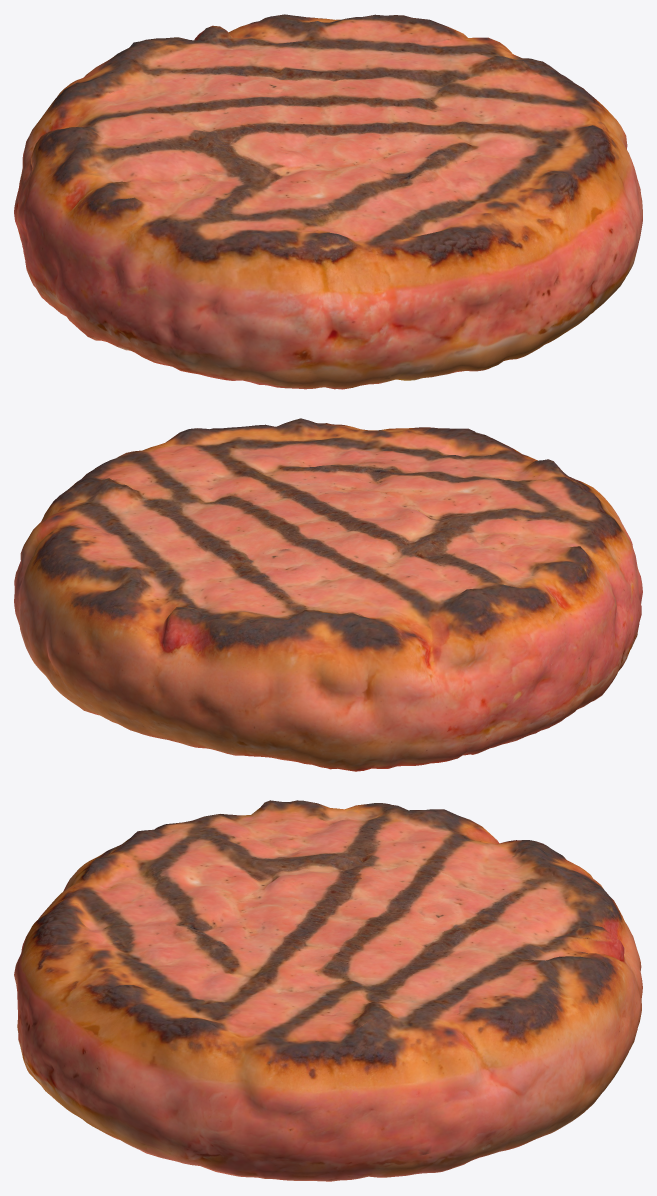
The model's file is meal.glb.
3 renders of one model, top to bottom at view 1: azimuth 30°, elevation 25°; view 2: azimuth 150°, elevation 25°; view 3: azimuth 270°, elevation 25°, orthographic. The views are drawn at different scales.
Bounding box in the file's own units: 2 × 0.5327 × 1.97.
Materials: 1 (1 with a texture image).
